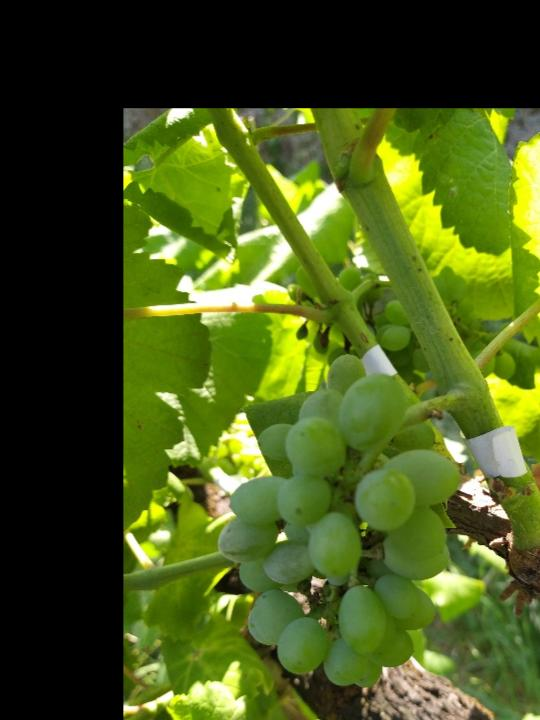grape: (215, 353, 466, 691)
